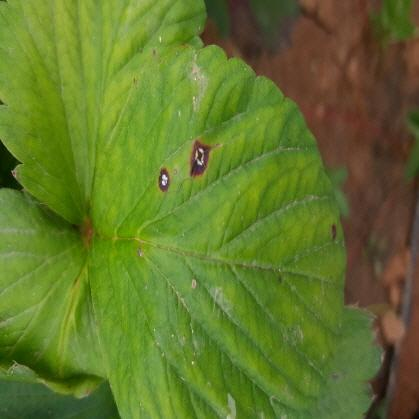Leaf Spot: (87, 44, 346, 418)
